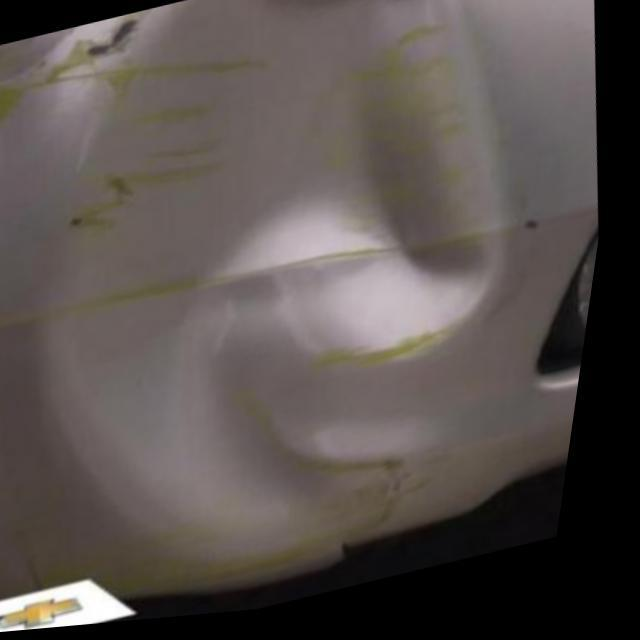dent: (58, 0, 516, 568)
rub: (0, 84, 36, 118)
scratch: (55, 13, 144, 80)
